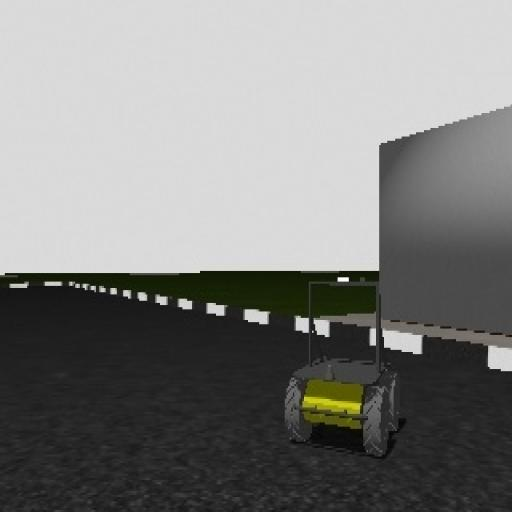huskya200: (279, 266, 403, 466)
